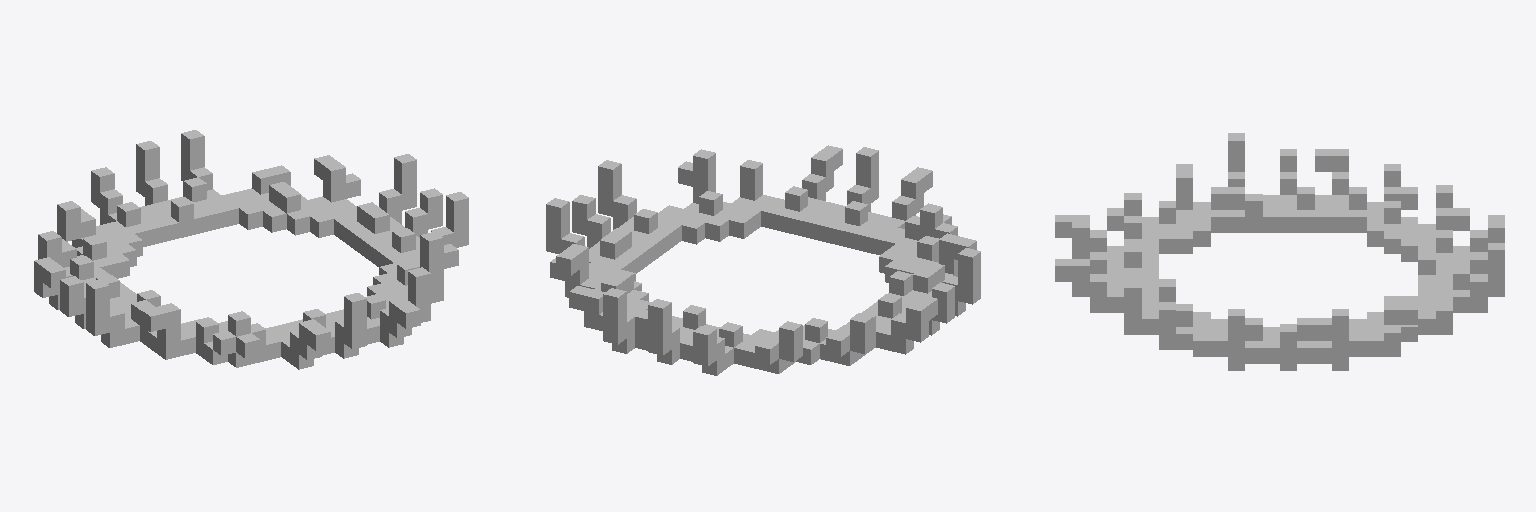
File: Fire Blast.obj
3 views of the same model, side by side, from view 1: azimuth 30°, elevation 25°; view 2: azimuth 150°, elevation 25°; view 3: azimuth 270°, elevation 25° (orthographic).
Parts seen in each view (by area): view 1: object 1; view 2: object 1; view 3: object 1.
Part boxes in pixels (left/top/right/bottom): object 1: left=34, top=130, right=468, bottom=369; object 1: left=546, top=145, right=980, bottom=375; object 1: left=1055, top=133, right=1504, bottom=370.
Size of the model in its own units: 2.5 by 0.4 by 2.6.